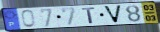0: (20, 9, 38, 29)
7: (60, 6, 79, 27), (39, 8, 54, 28)
8: (125, 4, 143, 23)
T: (81, 7, 97, 24)
V: (103, 4, 123, 24)
